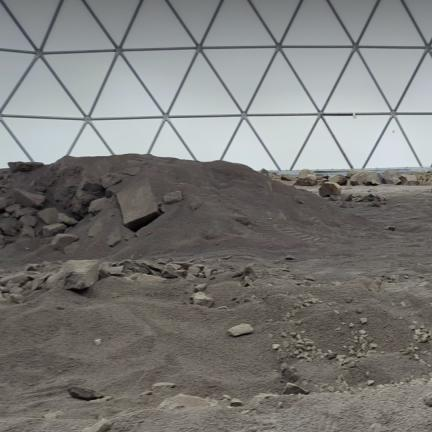Rock: (116, 179, 161, 231), (0, 184, 14, 317), (48, 260, 98, 291), (72, 178, 105, 216), (159, 394, 218, 409), (14, 189, 46, 208), (68, 387, 101, 400), (51, 234, 79, 249), (0, 218, 21, 236), (0, 273, 30, 285), (295, 169, 316, 186), (31, 273, 52, 290), (191, 291, 213, 307), (42, 223, 67, 237), (83, 419, 111, 431), (38, 208, 58, 224), (101, 173, 122, 188), (8, 162, 43, 171), (319, 182, 341, 196), (228, 324, 253, 336), (89, 198, 107, 214), (283, 383, 309, 394), (282, 367, 299, 383), (382, 170, 401, 184), (163, 191, 183, 204), (142, 261, 163, 273), (115, 260, 140, 270), (136, 274, 166, 282), (88, 221, 103, 237), (251, 394, 277, 403), (58, 213, 77, 225), (242, 266, 256, 282), (15, 208, 37, 218), (19, 215, 37, 227), (161, 266, 179, 278), (364, 174, 382, 185), (400, 174, 418, 185), (350, 173, 366, 185), (107, 234, 121, 247), (328, 175, 346, 185), (5, 204, 22, 214), (107, 266, 124, 276), (369, 278, 381, 292), (21, 225, 35, 237), (0, 198, 14, 210), (360, 194, 381, 202), (190, 196, 201, 210), (133, 266, 152, 274), (234, 216, 250, 225), (152, 382, 175, 388), (123, 167, 139, 175), (166, 263, 181, 271), (188, 266, 200, 276), (10, 294, 23, 303), (281, 175, 297, 182), (99, 268, 109, 279), (174, 263, 192, 269), (230, 398, 243, 406), (195, 283, 207, 291), (304, 298, 319, 304), (243, 276, 252, 286), (27, 273, 41, 279), (0, 182, 11, 189), (341, 194, 352, 201), (100, 262, 111, 269), (26, 264, 37, 271), (280, 362, 288, 371), (358, 337, 367, 345), (0, 234, 5, 248), (186, 274, 196, 281), (316, 179, 327, 185), (370, 201, 381, 207), (340, 202, 353, 207), (282, 340, 290, 348), (294, 198, 304, 204), (366, 350, 378, 355), (384, 226, 395, 231), (126, 161, 139, 165), (329, 196, 339, 201), (5, 237, 13, 243), (272, 344, 280, 350), (345, 297, 353, 303), (305, 341, 314, 346), (141, 391, 152, 395), (94, 339, 101, 345), (3, 173, 9, 180), (0, 187, 7, 193), (3, 294, 9, 301), (290, 332, 297, 338), (370, 343, 377, 349), (413, 335, 420, 341), (415, 329, 422, 335), (327, 386, 334, 392), (285, 256, 295, 260), (52, 261, 62, 265), (296, 340, 304, 345), (337, 355, 345, 360), (351, 330, 356, 338), (41, 262, 50, 266), (386, 279, 395, 283), (367, 380, 374, 385), (223, 395, 230, 400), (295, 320, 302, 325), (281, 316, 288, 321), (357, 352, 364, 357), (216, 306, 227, 309), (306, 276, 314, 280), (305, 346, 313, 350), (377, 384, 385, 388), (361, 318, 367, 323), (290, 311, 295, 317), (296, 334, 301, 340), (356, 308, 362, 313), (414, 354, 419, 360), (349, 350, 355, 355), (341, 346, 347, 351), (277, 402, 282, 408), (198, 273, 205, 277), (222, 256, 231, 259), (4, 212, 9, 217), (282, 332, 287, 337), (401, 302, 406, 307), (294, 350, 299, 355), (410, 325, 415, 330), (348, 323, 354, 327), (359, 330, 365, 334), (328, 302, 333, 306), (366, 372, 370, 377), (398, 316, 403, 320), (414, 346, 419, 350), (306, 358, 312, 361), (413, 321, 417, 325), (334, 311, 339, 314), (419, 326, 424, 329), (341, 322, 346, 325), (404, 275, 409, 278), (328, 350, 332, 353), (269, 334, 273, 337), (381, 351, 385, 354), (335, 328, 340, 330), (300, 331, 305, 333), (419, 276, 424, 278)
